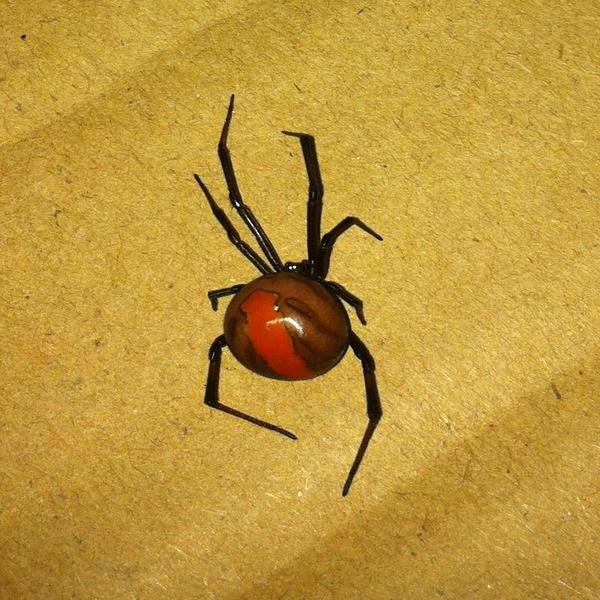Redback Spider: (194, 95, 388, 499)
